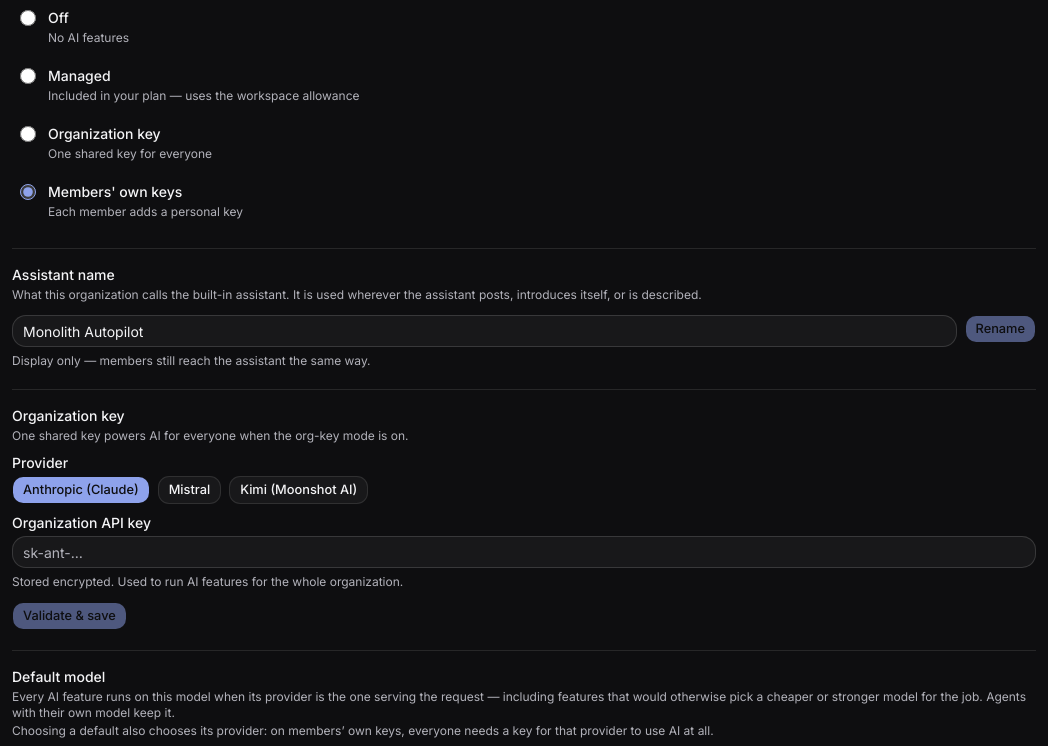
Test: OrgAiSettingsForm · assistant name › shows a refused rename on the field, keeping what was typed
Replace the text in the field named "assistant name" with "Ada" at (484, 331), box [12, 315, 956, 347]
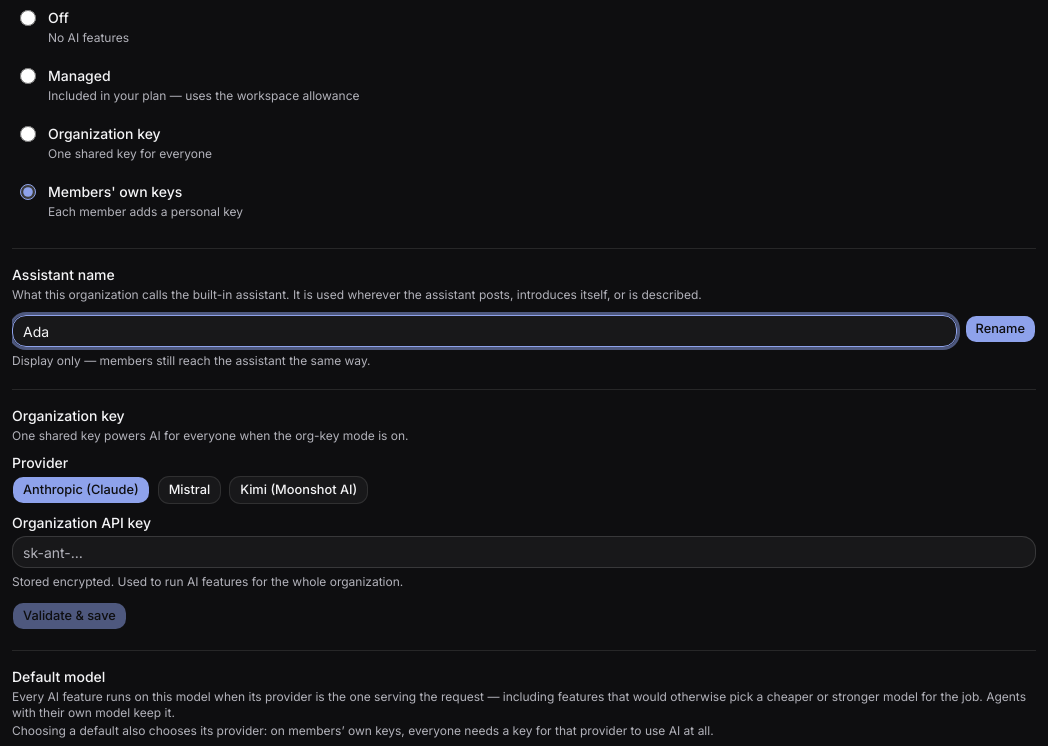
Click the button "Rename".
click(1000, 329)  # box [964, 315, 1036, 343]
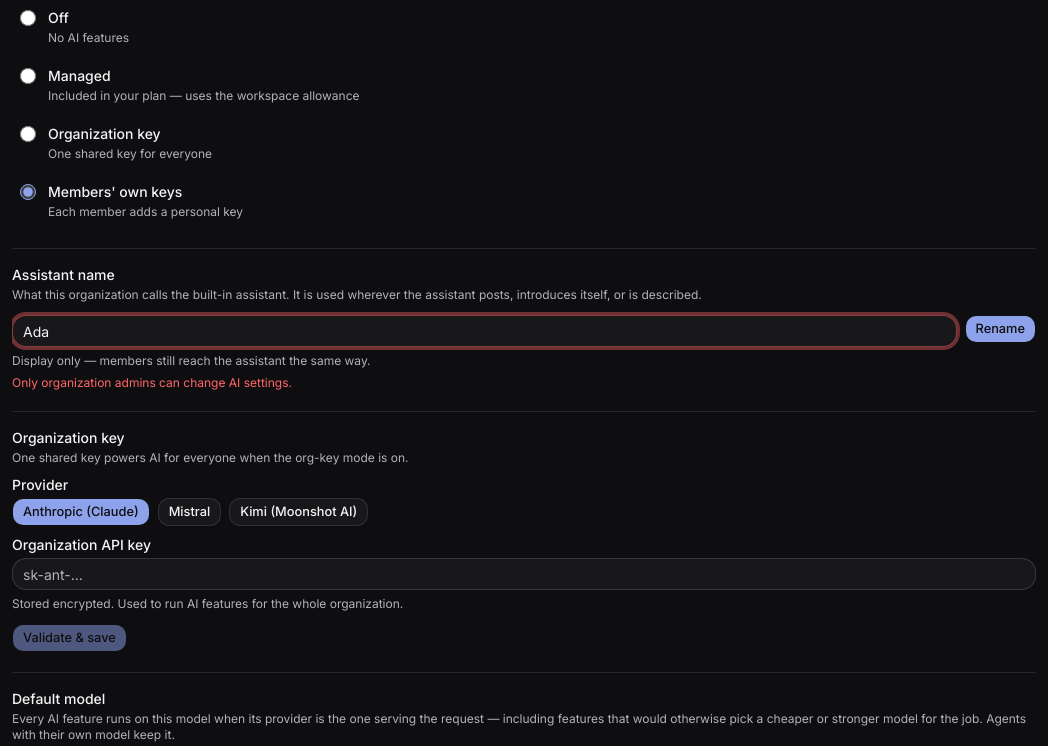
Result: the text "Only organization admins can change AI settings." is shown at [12, 375, 292, 390]
